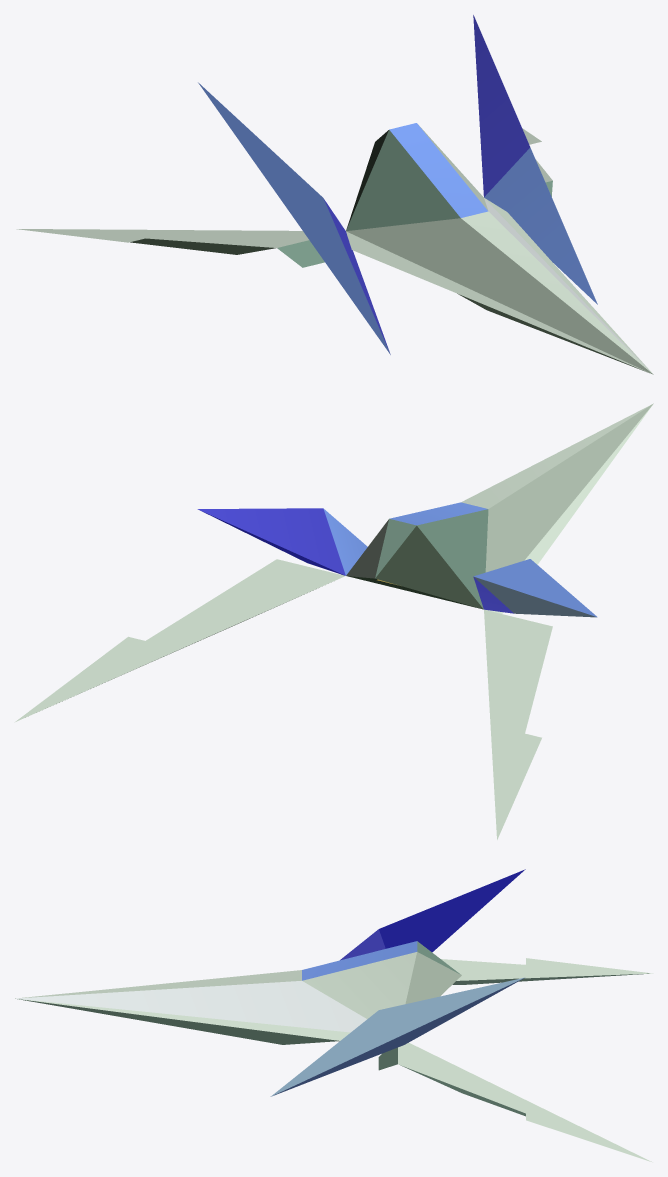
Rendered from arwing.obj.
3 renders of one model, top to bottom at view 1: azimuth 30°, elevation 25°; view 2: azimuth 150°, elevation 25°; view 3: azimuth 270°, elevation 25°, orthographic. The views are drawn at different scales.
Visible parts, largest first — view 1: Default; view 2: Default; view 3: Default.
Part boxes in pixels (bbox=[...]): Default: bbox=[16, 15, 653, 374]; Default: bbox=[14, 403, 653, 839]; Default: bbox=[15, 869, 653, 1162].
Bounding box in the file's own units: 4.2 × 1.5 × 6.
13 materials, 13 textured.
